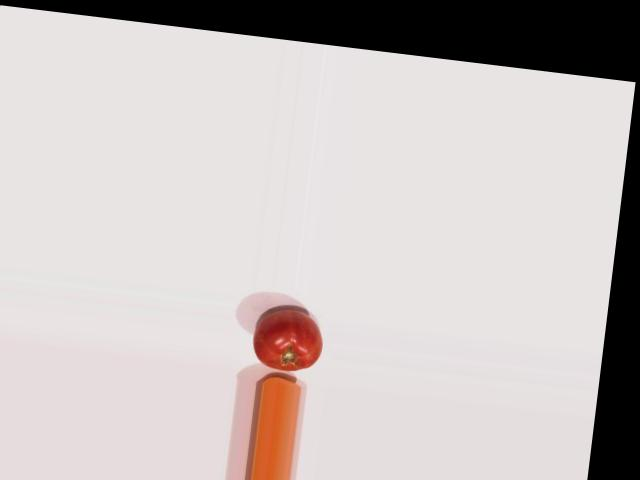tomato: (251, 306, 326, 374)
